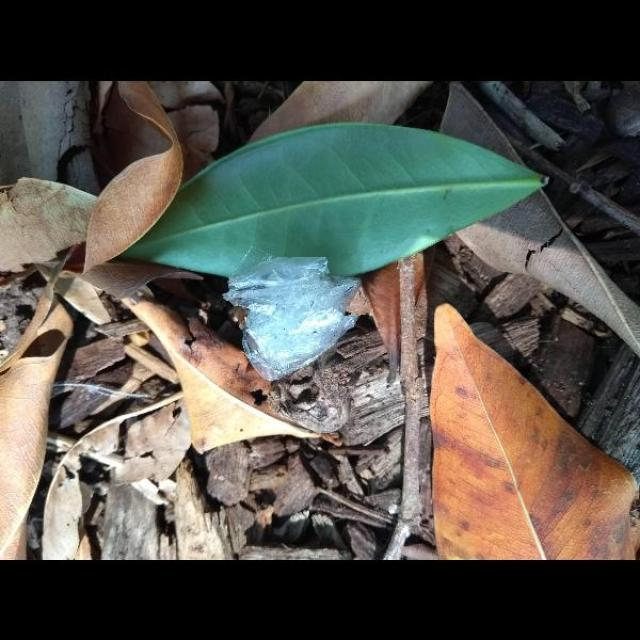plastic_waste: (200, 234, 370, 399)
